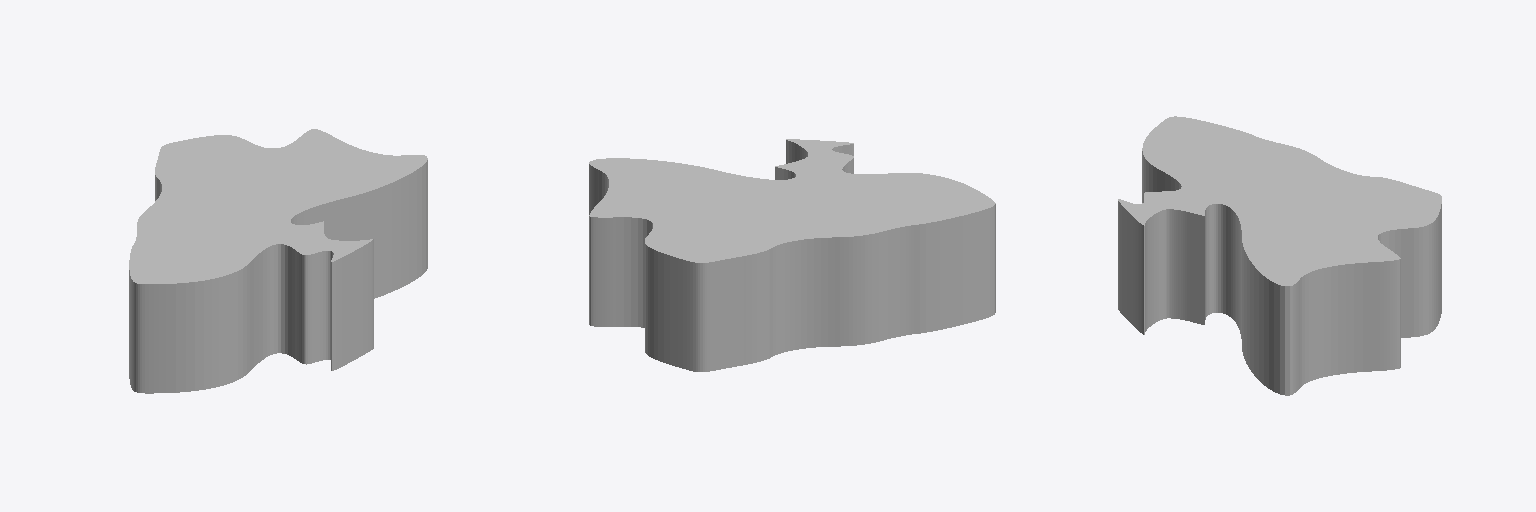
The model's file is North_America_08.obj.
The picture shows the model from 3 angles: view 1: azimuth 30°, elevation 25°; view 2: azimuth 150°, elevation 25°; view 3: azimuth 270°, elevation 25°; orthographic projection.
Parts seen in each view (by area): view 1: North_America_08_path4198; view 2: North_America_08_path4198; view 3: North_America_08_path4198.
Part boxes in pixels (x1,y1,x2,y2): North_America_08_path4198: (129, 129, 427, 393); North_America_08_path4198: (589, 139, 995, 371); North_America_08_path4198: (1118, 116, 1441, 395).
Bounding box in the file's own units: 0.3335 × 0.1 × 0.2691.